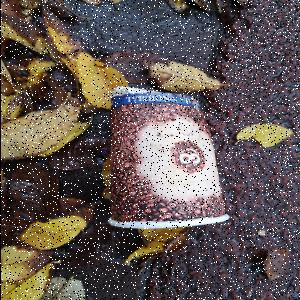Cup: (107, 88, 231, 231)
